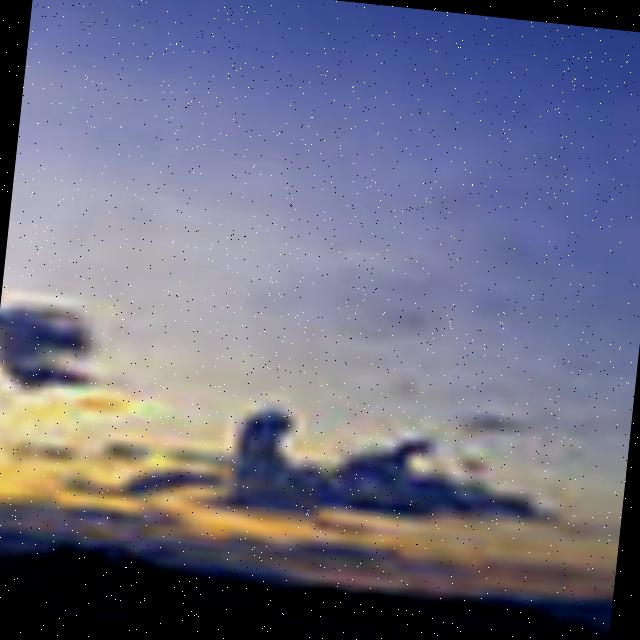As: (1, 186, 640, 638)
